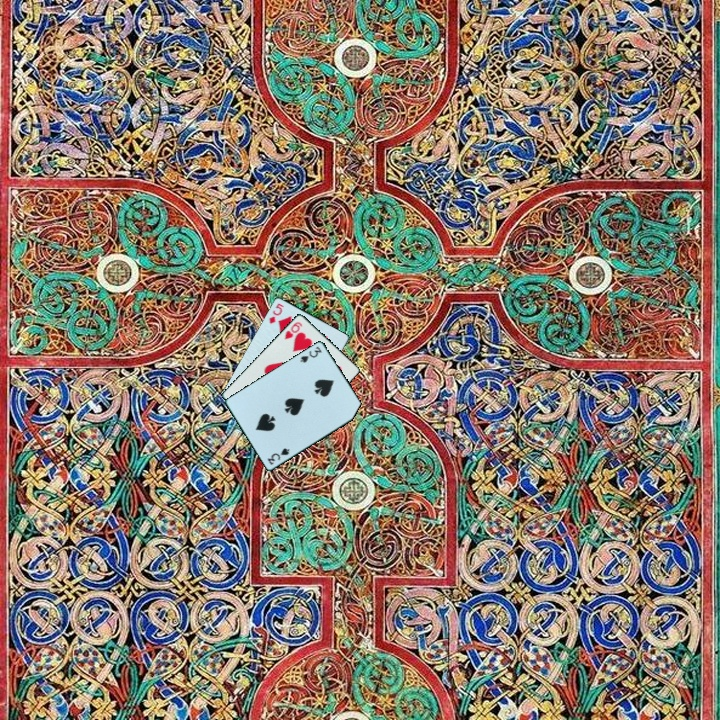3s: (264, 444, 293, 468), (297, 343, 325, 365)
5d: (265, 299, 286, 326)
6h: (281, 318, 305, 342)
